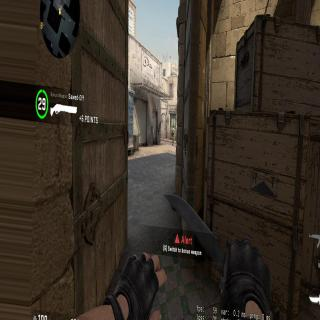CT-Body: (171, 127, 175, 146)
CT-Head: (173, 128, 174, 130)
